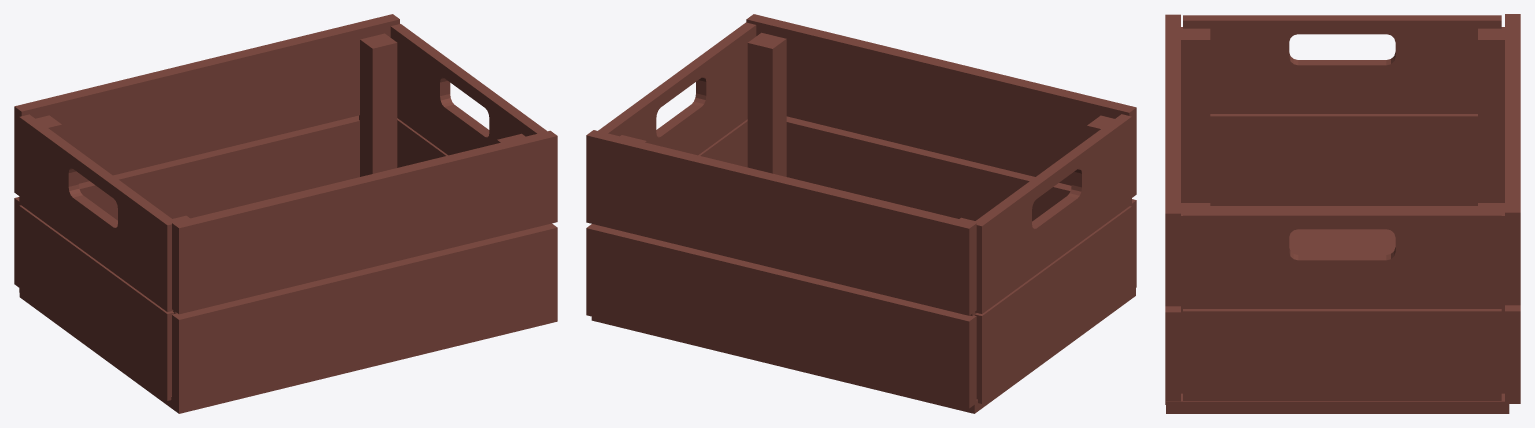
Rendered from produceCrate.fbx.
3 views of the same model, side by side, from view 1: azimuth 30°, elevation 25°; view 2: azimuth 150°, elevation 25°; view 3: azimuth 270°, elevation 25° (orthographic). The views are drawn at different scales.
Parts seen in each view (by area): view 1: Produce Crate; view 2: Produce Crate; view 3: Produce Crate.
Boxes of the visible parts, <box> form: Produce Crate: <box>14,14,557,413</box>; Produce Crate: <box>586,14,1136,413</box>; Produce Crate: <box>1165,14,1520,413</box>.
Size of the model in its own units: 60.36 by 45.17 by 28.2.
